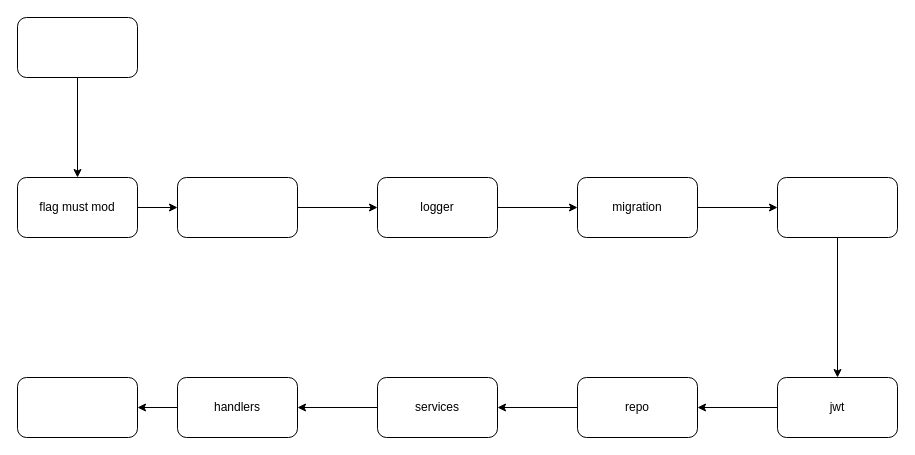
The diagram is 915 pixels wide and 455 high, and some of its shapes have lost their labels. Each missing label, with the centre of its shape:
cfg: point (237, 207)
connect db: point (837, 207)
grpc-server: point (77, 407)
main: point (77, 47)
